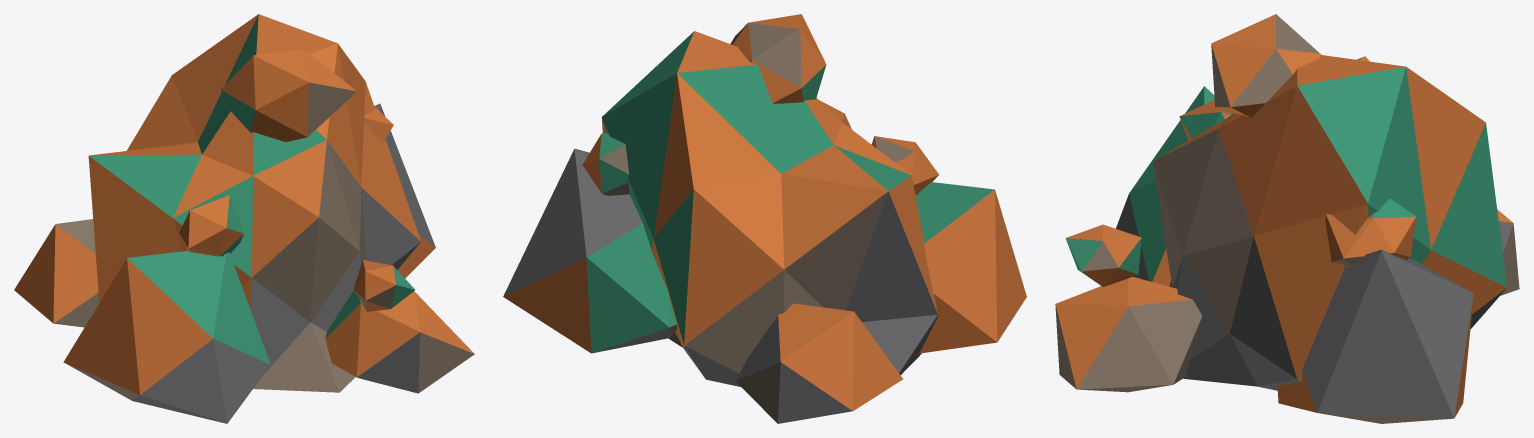
File: copper_ore_c.glb
3 views of the same model, side by side, from view 1: azimuth 30°, elevation 25°; view 2: azimuth 150°, elevation 25°; view 3: azimuth 270°, elevation 25° (orthographic). The views are drawn at different scales.
Parts seen in each view (by area): view 1: copper_ore_c; view 2: copper_ore_c; view 3: copper_ore_c.
Part boxes in pixels (left/top/right/bottom): copper_ore_c: left=14, top=14, right=474, bottom=423; copper_ore_c: left=503, top=14, right=1026, bottom=423; copper_ore_c: left=1055, top=14, right=1519, bottom=423.
Bounding box in the file's own units: 1.24 × 0.8432 × 1.1.
